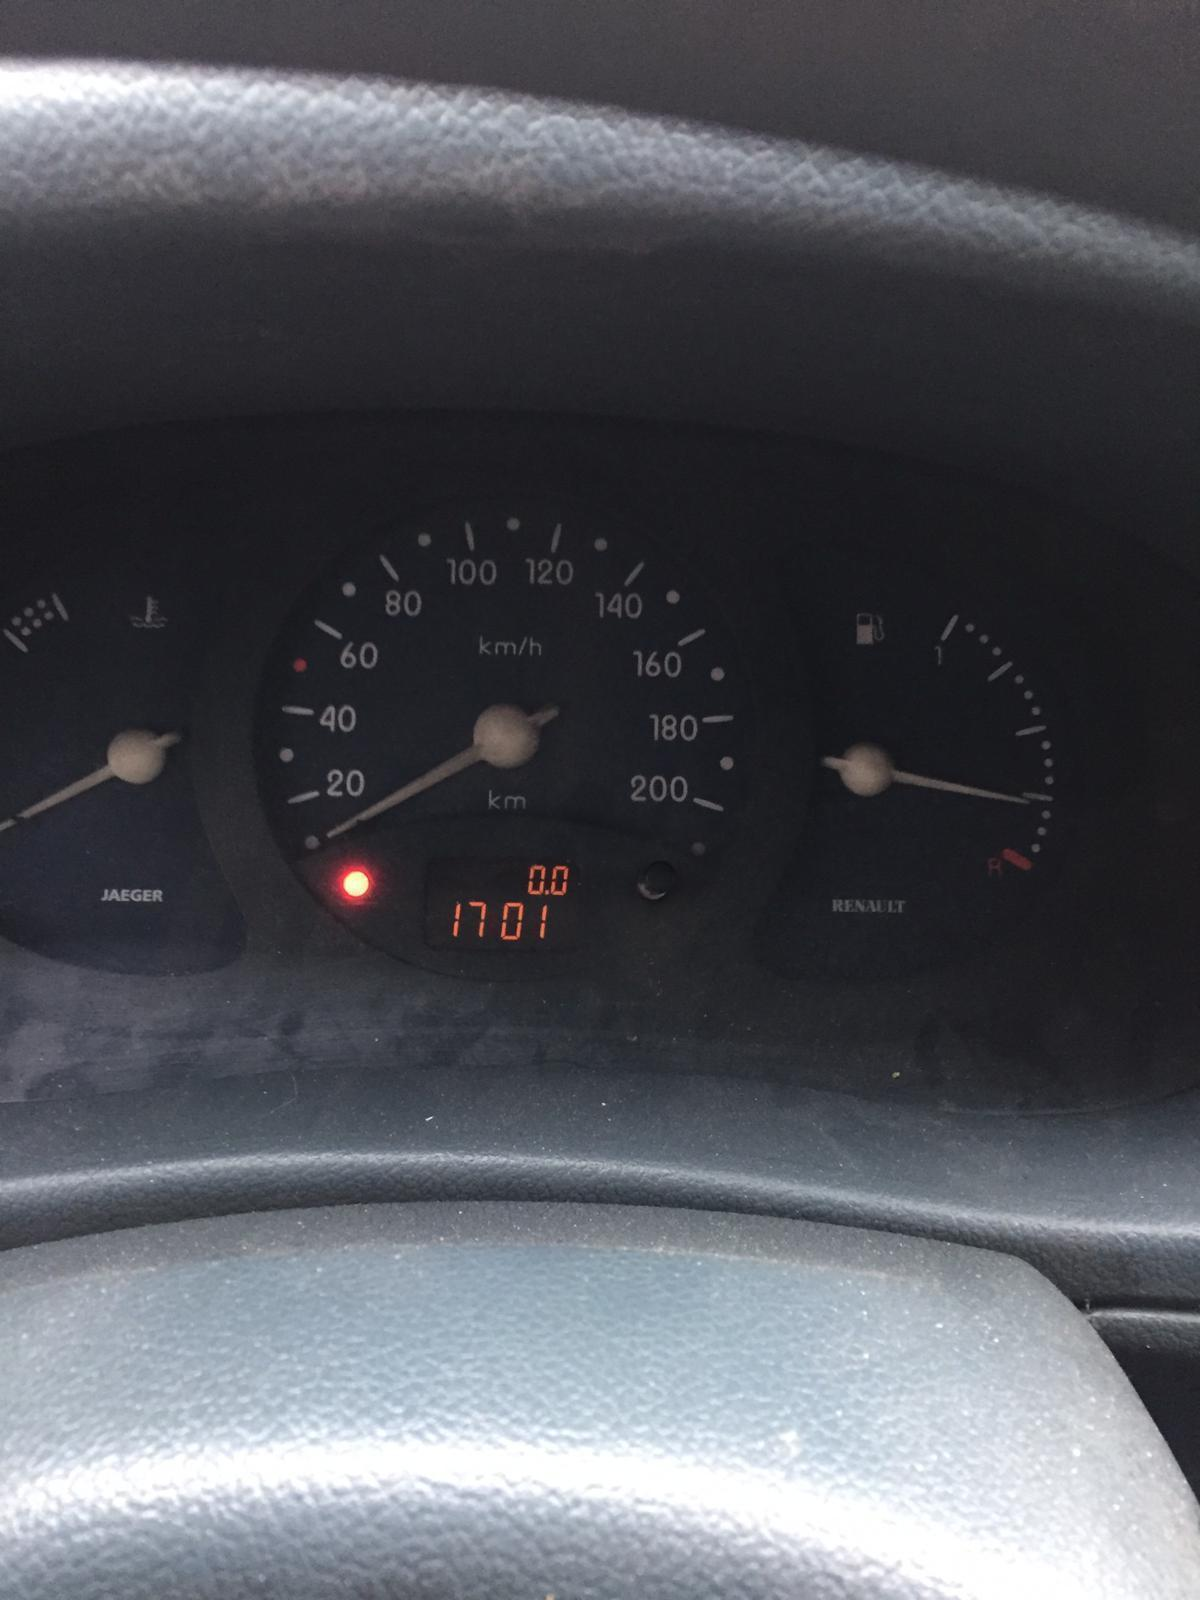,: (543, 888, 550, 896)
0: (499, 901, 524, 941), (526, 863, 545, 896), (550, 866, 568, 896)
1: (538, 903, 550, 941), (451, 902, 463, 939)
7: (466, 900, 487, 939)
odometer: (418, 850, 591, 957)
